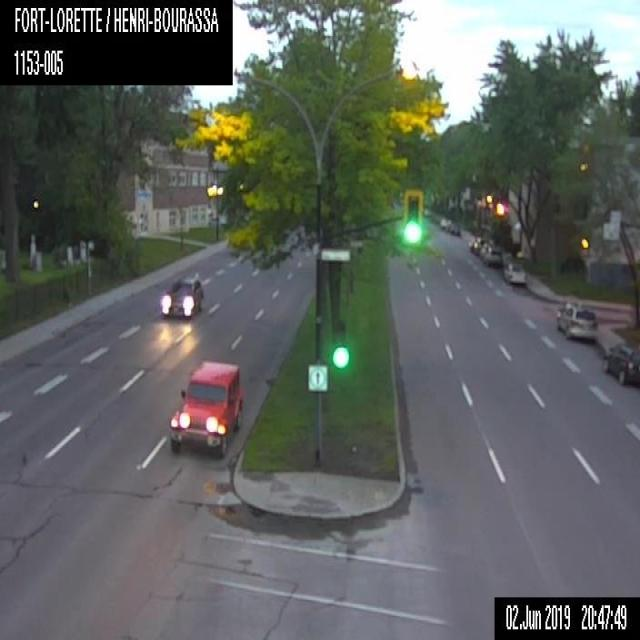vehicle: (168, 357, 243, 460), (156, 272, 204, 320), (555, 298, 598, 339), (605, 341, 639, 383), (503, 262, 527, 286), (483, 247, 501, 266), (478, 238, 492, 260), (472, 236, 483, 252), (448, 223, 461, 234), (467, 234, 475, 250)
